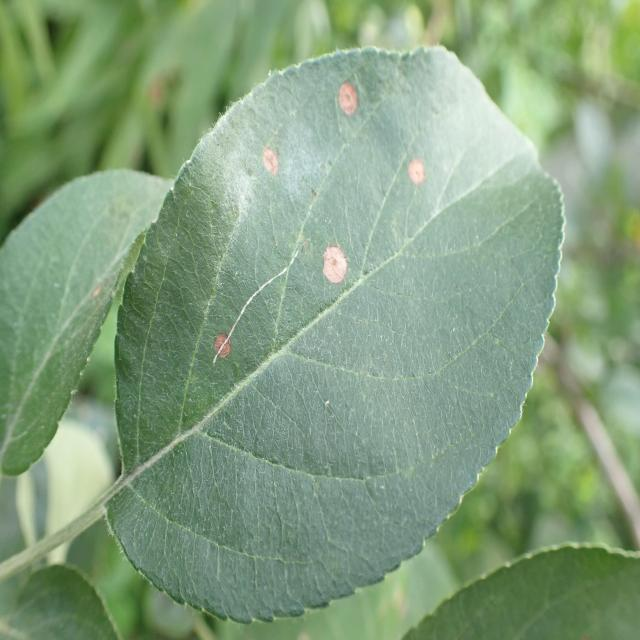Black Rot: (327, 67, 375, 131), (317, 232, 358, 298), (256, 108, 286, 193), (388, 154, 434, 202), (205, 333, 241, 374)
